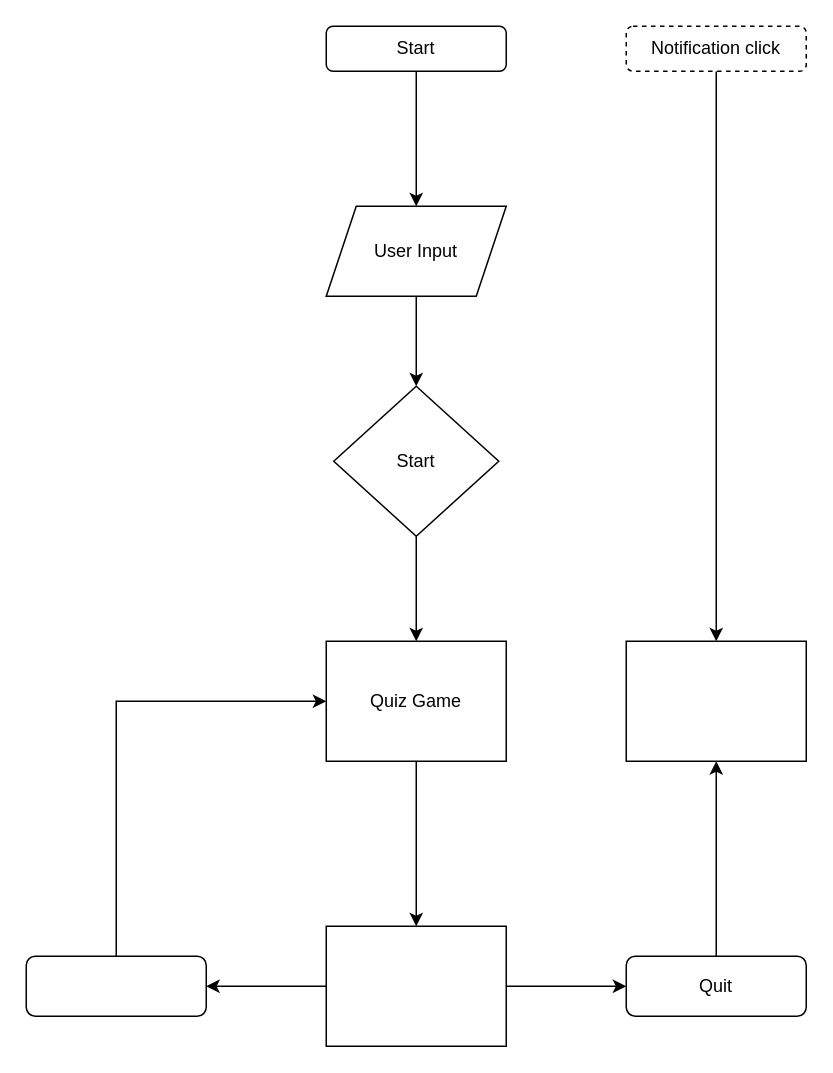
The diagram is 833 pixels wide and 1073 high, and some of its shapes have lost their labels. Here are the shapes that lost their labels. From the top down, the centre of each, then its label:
At pixel 715 700: "Top result".
At pixel 115 985: "Replay".
At pixel 415 985: "Display Score".
